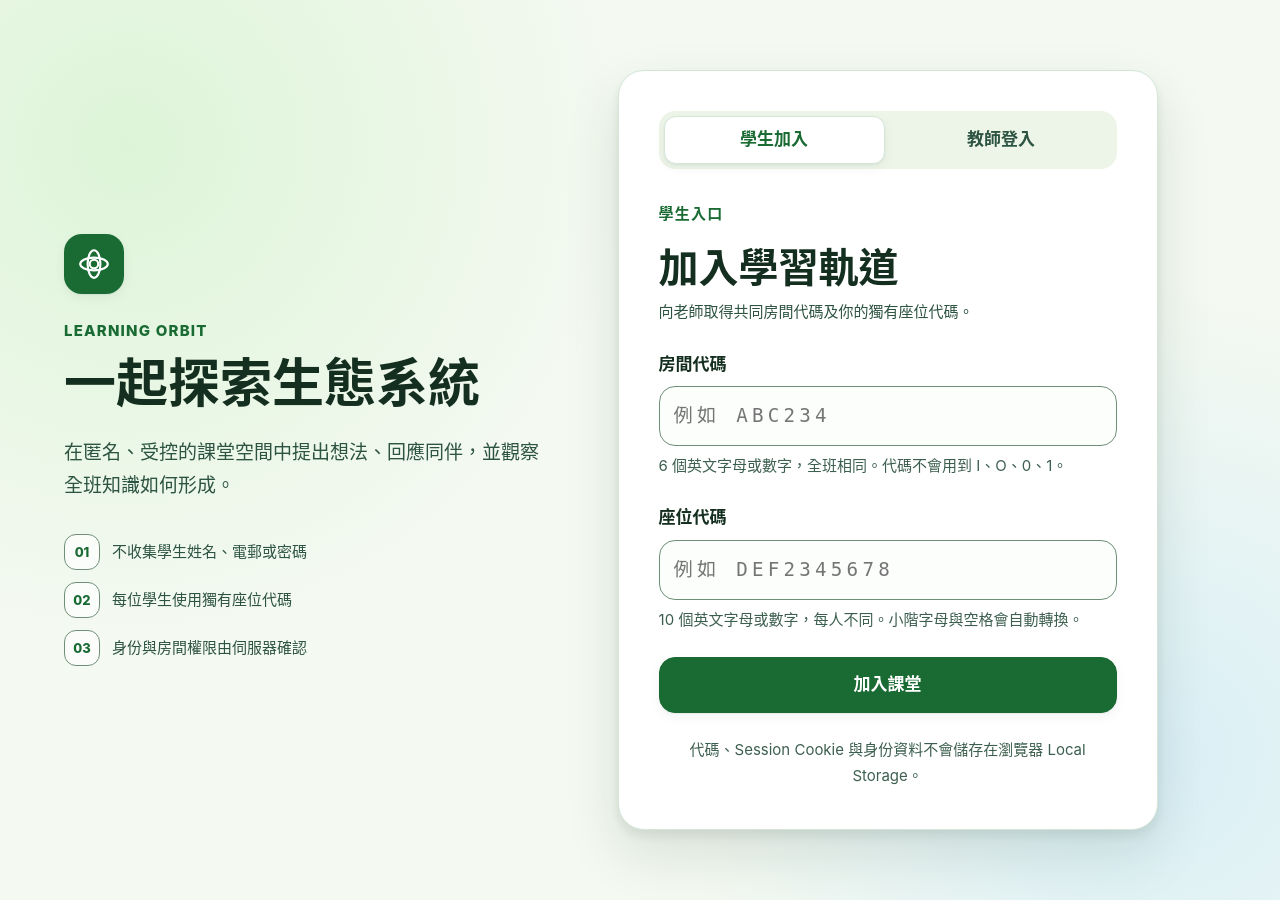
it: unified login page › picks the field's own code when the whole invitation is pasted into both
Expected: the heading "加入學習軌道" is shown, [659,243,899,292]
Click the field labelled "房間代碼" at x=888, y=416, box [659,386,1117,446]
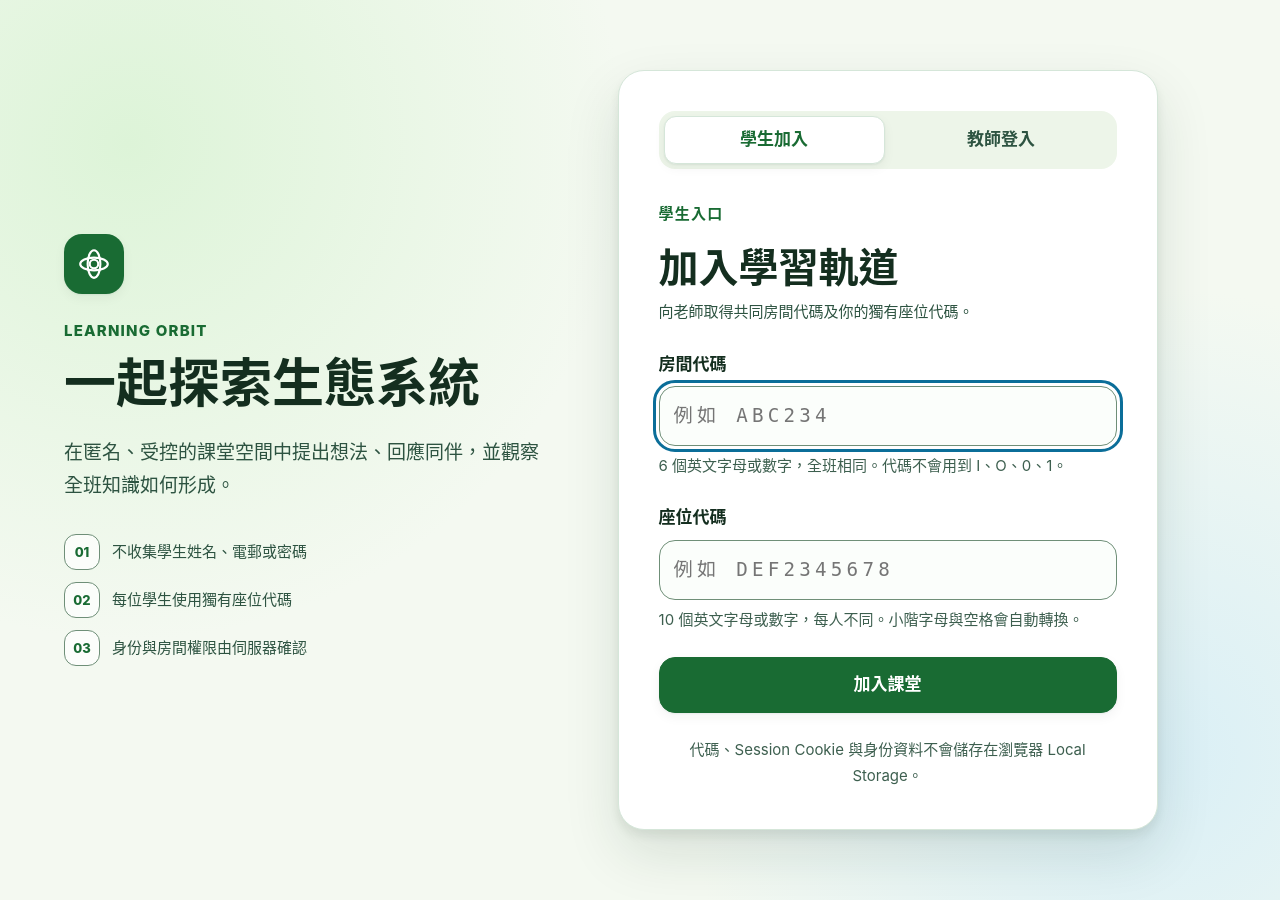
Type keys "房間代碼：ABC234，座位代碼：DEF2345678"
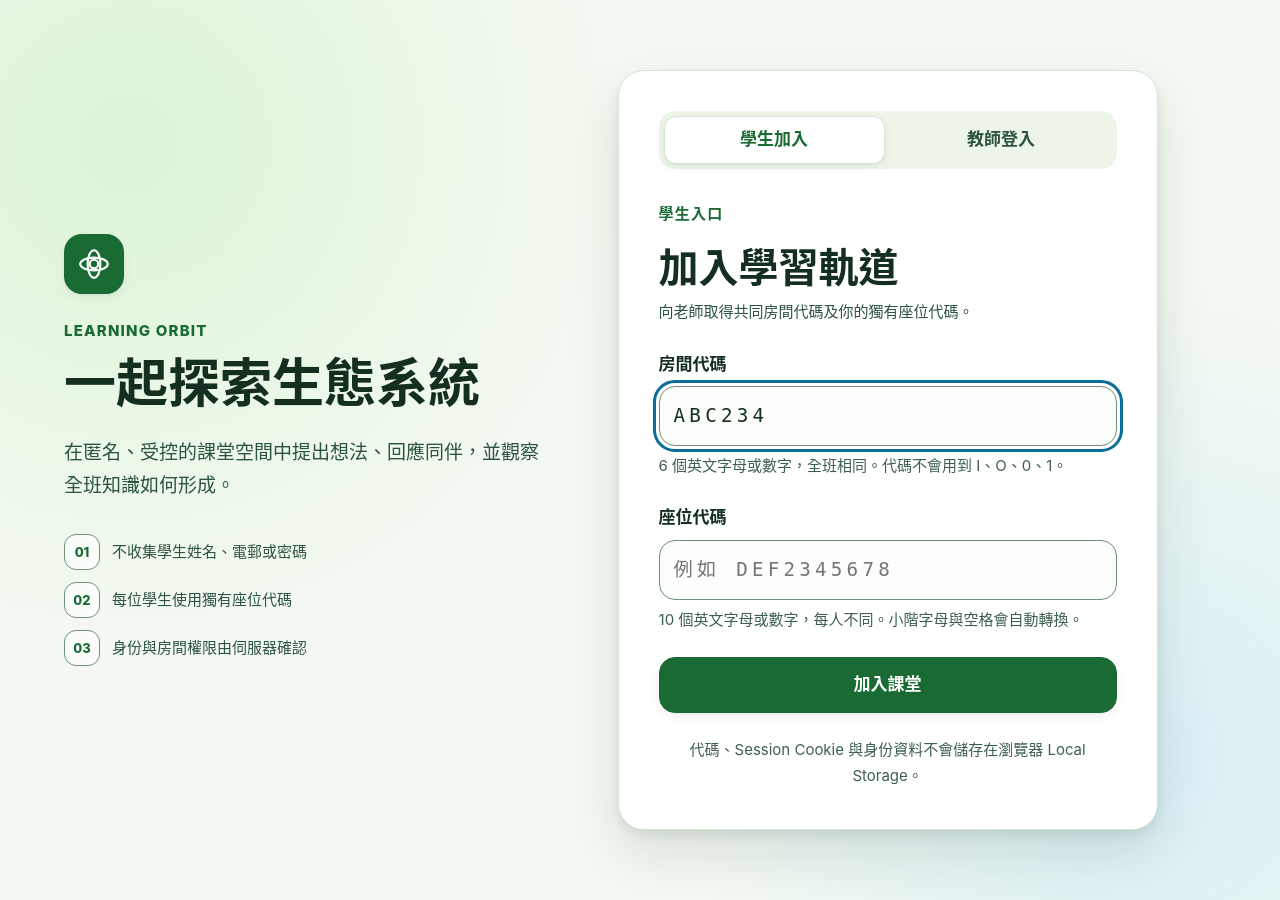
Click the field labelled "座位代碼" at x=888, y=570, box [659,540,1117,600]
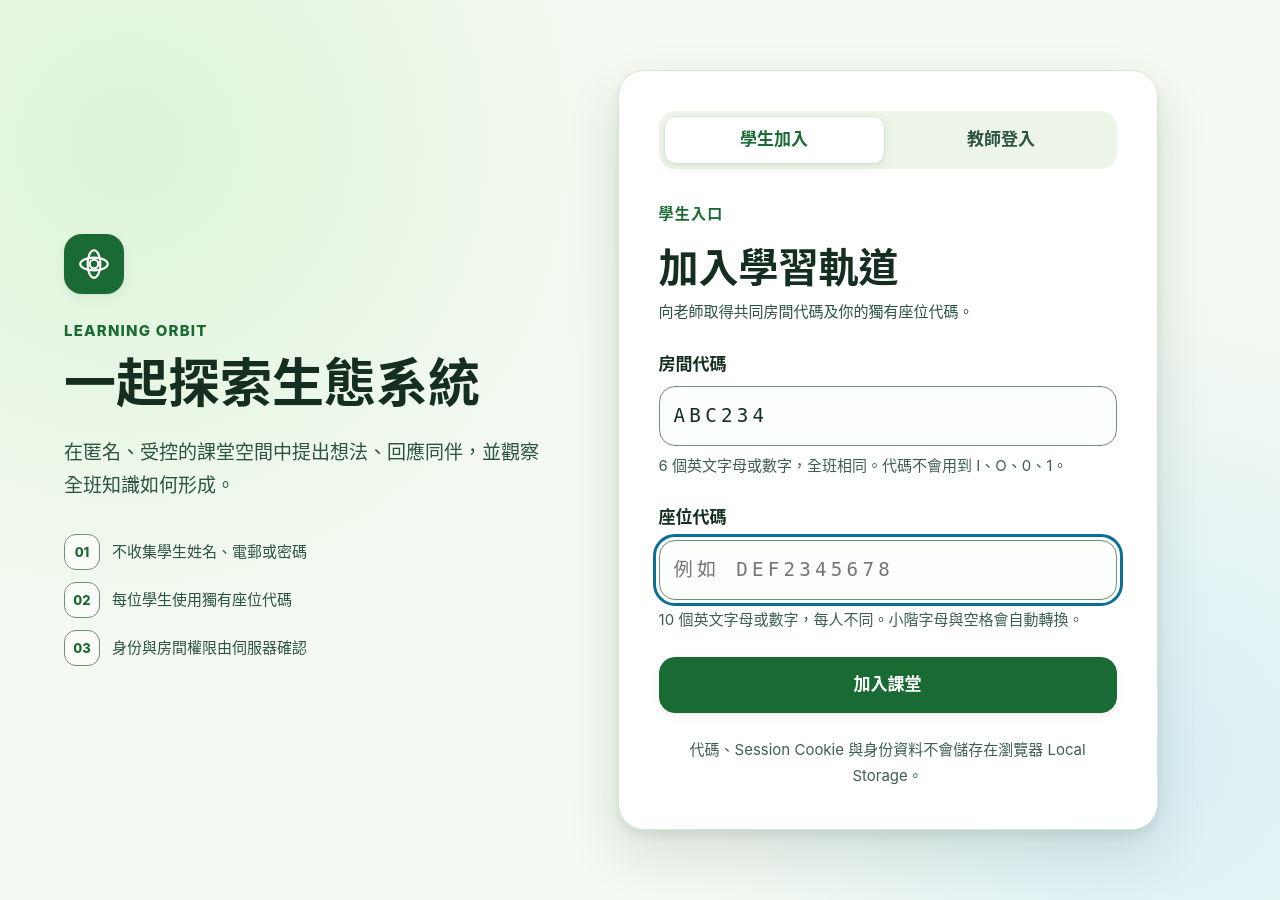
Type keys "房間代碼：ABC234，座位代碼：DEF2345678"
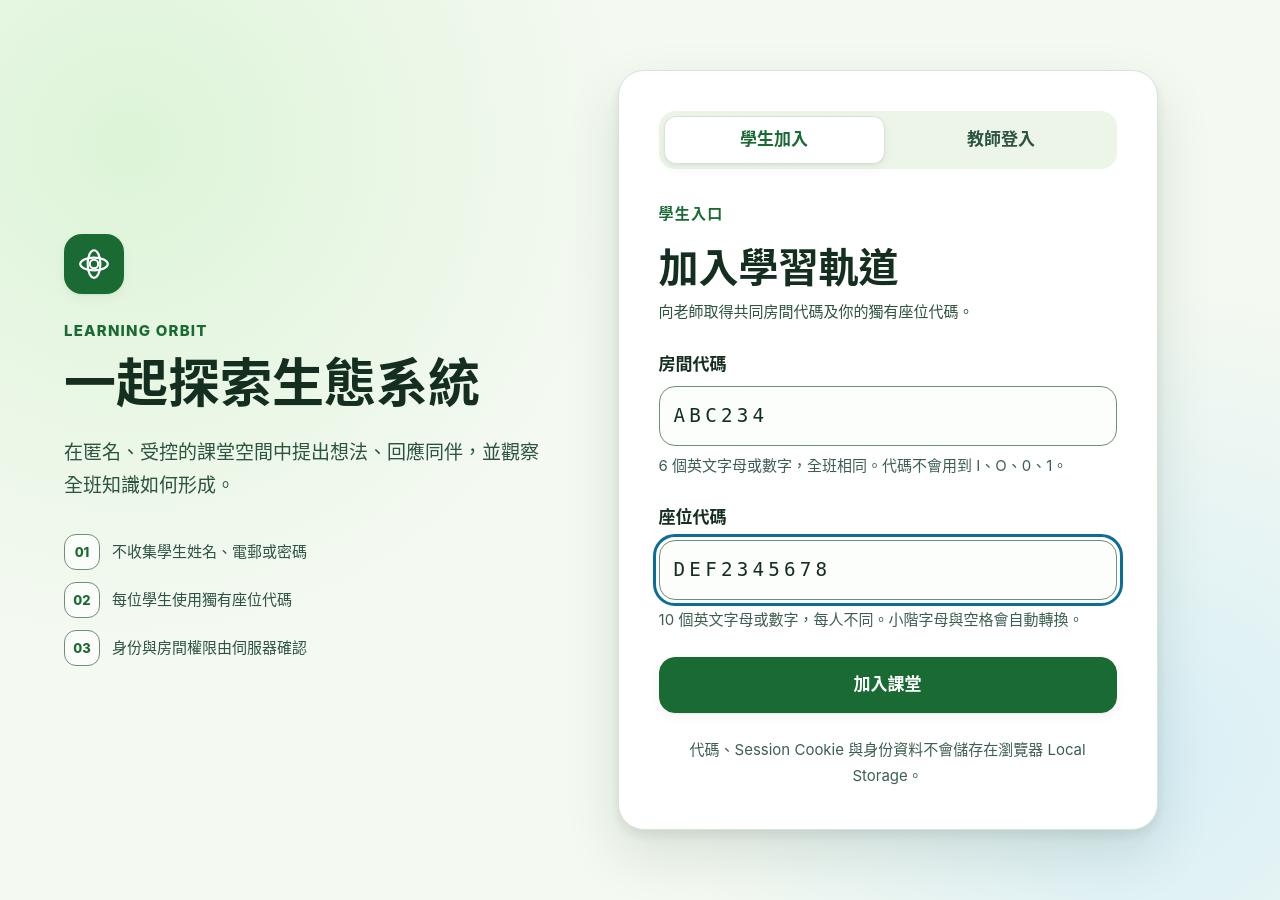
Expected: the field labelled "房間代碼" holds "ABC234", [659,386,1117,446]
Expected: the field labelled "座位代碼" holds "DEF2345678", [659,540,1117,600]
